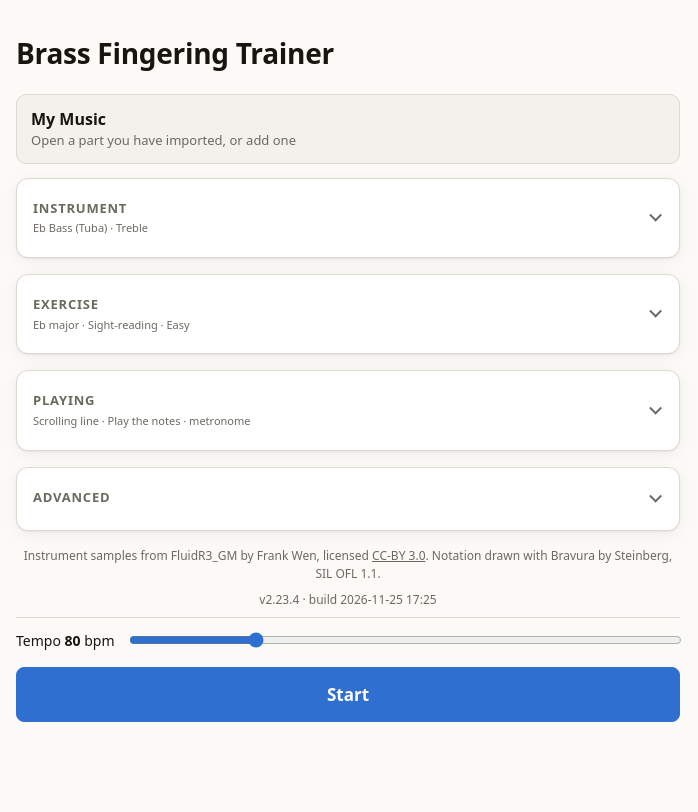
Scenario: the app › the material boxes › says which box is open to anyone not looking at it
Click the text "Exercise". click: [66, 304]
box: top-left (33, 295), bottom-right (99, 313)
(page scrolled)
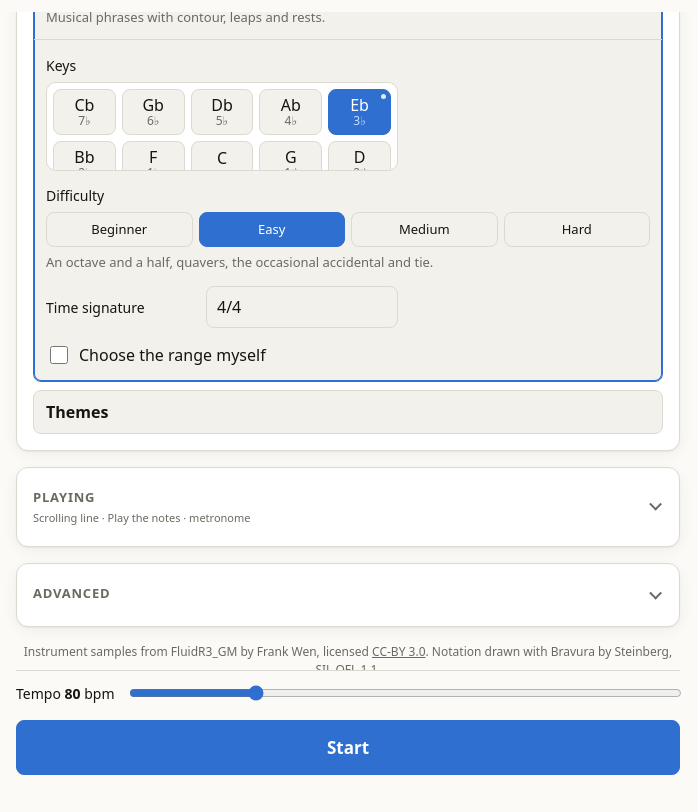
Click the button "Themes". click: [77, 412]
box: top-left (34, 391), bottom-right (662, 433)
(page scrolled)
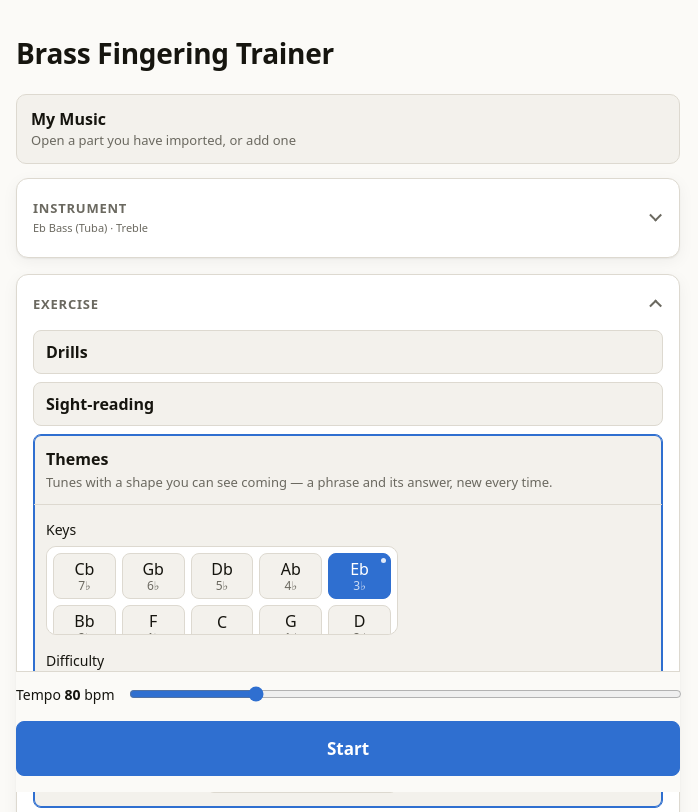
Expected: the button "Themes" is expanded, top-left (34, 435), bottom-right (662, 504)
